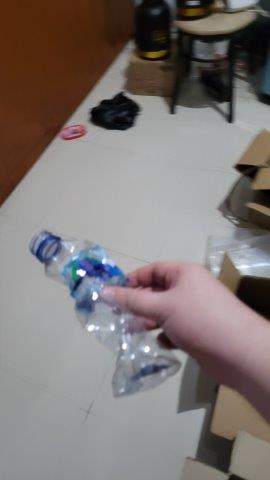botolplastik: (31, 228, 183, 393)
kardus: (228, 114, 270, 234)
